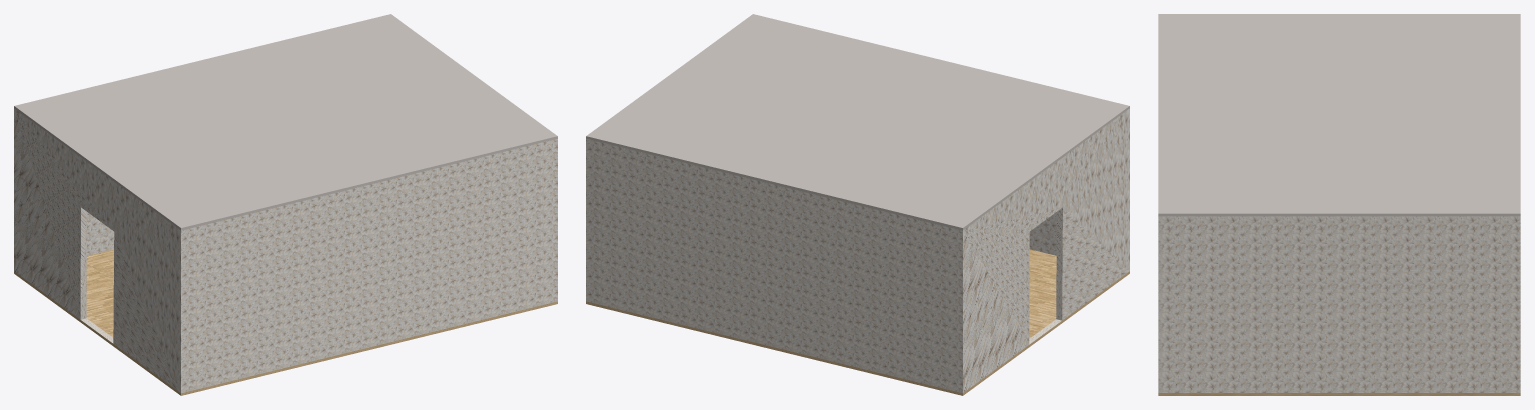
File: room.glb
3 views of the same model, side by side, from view 1: azimuth 30°, elevation 25°; view 2: azimuth 150°, elevation 25°; view 3: azimuth 270°, elevation 25° (orthographic). The views are drawn at different scales.
Visible parts, largest first — view 1: Walls, Floor.001, Floor; view 2: Walls, Floor.001, Floor; view 3: Floor.001, Walls, Floor.
Part boxes in pixels (x1,y1,x2,y2): Walls: (14, 108, 557, 393); Floor.001: (14, 14, 557, 230); Floor: (14, 249, 557, 395); Walls: (586, 108, 1129, 393); Floor.001: (586, 14, 1129, 230); Floor: (586, 249, 1129, 395); Floor.001: (1158, 14, 1520, 216); Walls: (1158, 216, 1520, 392); Floor: (1158, 393, 1520, 395).
Bounding box in the file's own units: 23.86 × 10.16 × 18.31.
3 materials, 2 textured.
